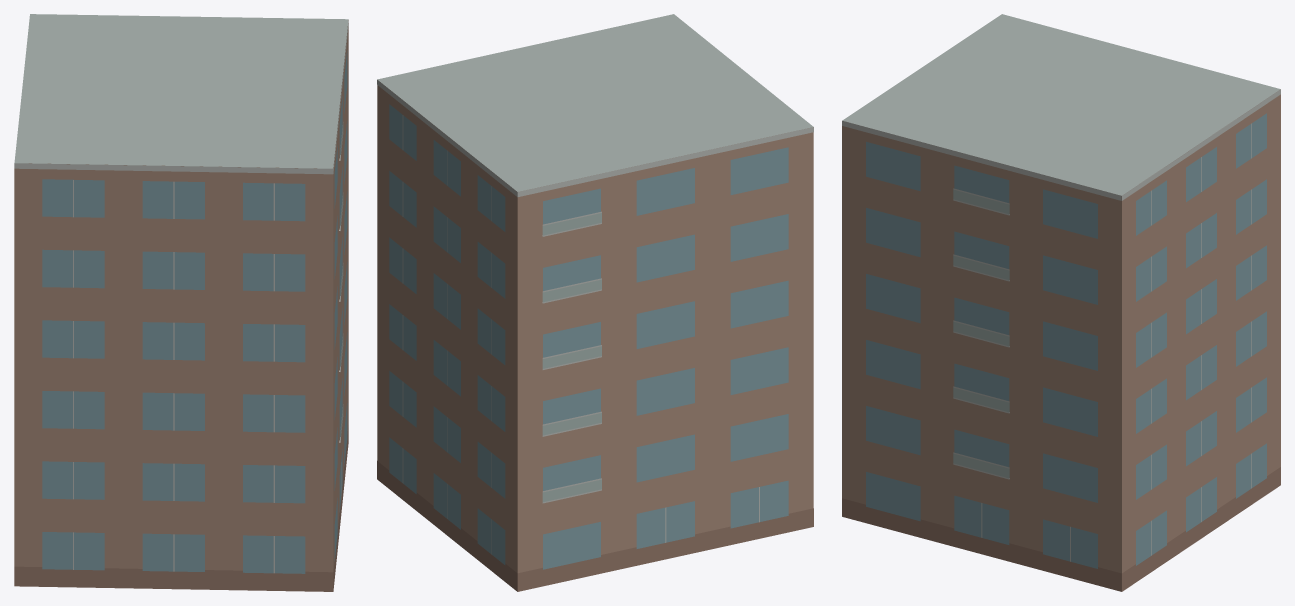
Rendered from survey-upis-32881263.glb.
3 views of the same model, side by side, from view 1: azimuth 30°, elevation 25°; view 2: azimuth 150°, elevation 25°; view 3: azimuth 270°, elevation 25° (orthographic). The views are drawn at different scales.
Parts seen in each view (by area): view 1: survey-upis-32881263.tmp; view 2: survey-upis-32881263.tmp; view 3: survey-upis-32881263.tmp.
Boxes of the visible parts, left/top/right/bottom form: survey-upis-32881263.tmp: left=14, top=14, right=348, bottom=591; survey-upis-32881263.tmp: left=377, top=14, right=813, bottom=591; survey-upis-32881263.tmp: left=842, top=14, right=1280, bottom=591.
Size of the model in its own units: 18.2 by 18.48 by 18.56.
